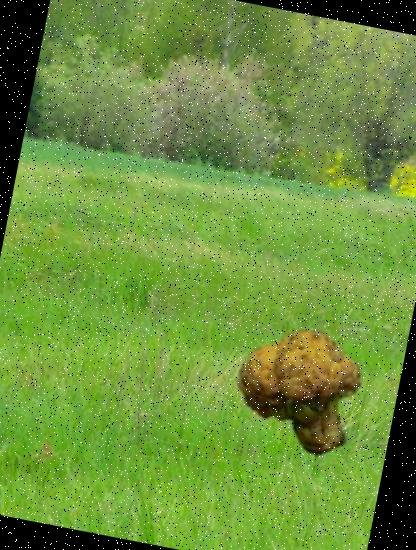Cauliflower: (230, 318, 382, 470)
